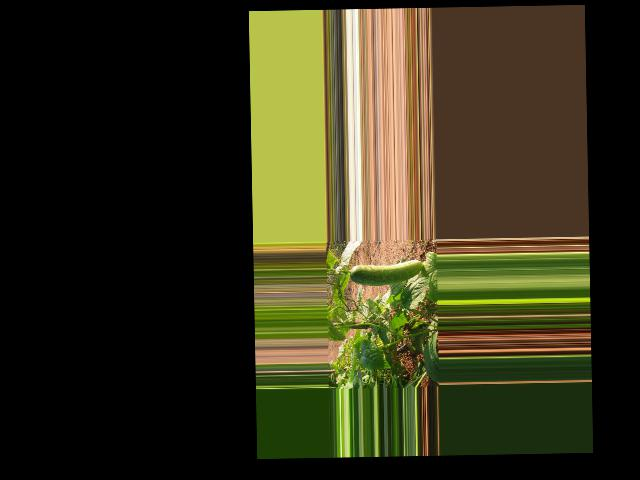cucumber: (350, 259, 423, 286)
